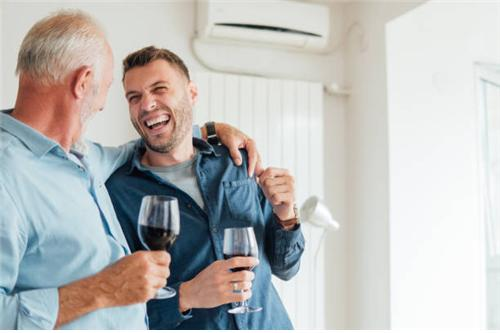alcohol: (137, 196, 181, 299), (222, 227, 259, 314)
